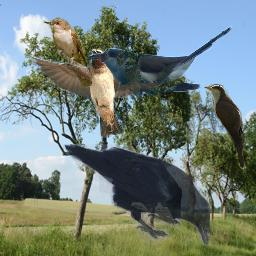Crow: (63, 144, 210, 245)
Cuckoo: (87, 25, 236, 99), (204, 84, 246, 170), (43, 17, 92, 88)
Swallow: (24, 48, 185, 138)
